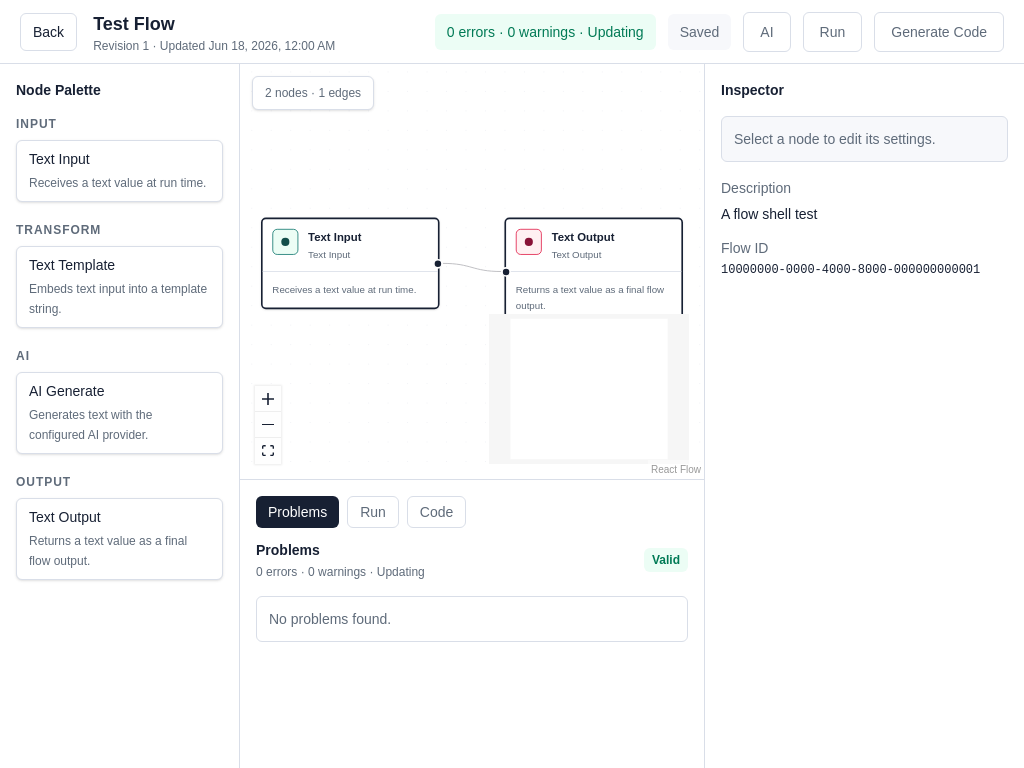
Test: EditorShell › opens the Code panel from the top bar for executable flows
Click the button "Generate Code": {"x": 939, "y": 32} [874,12,1004,52]
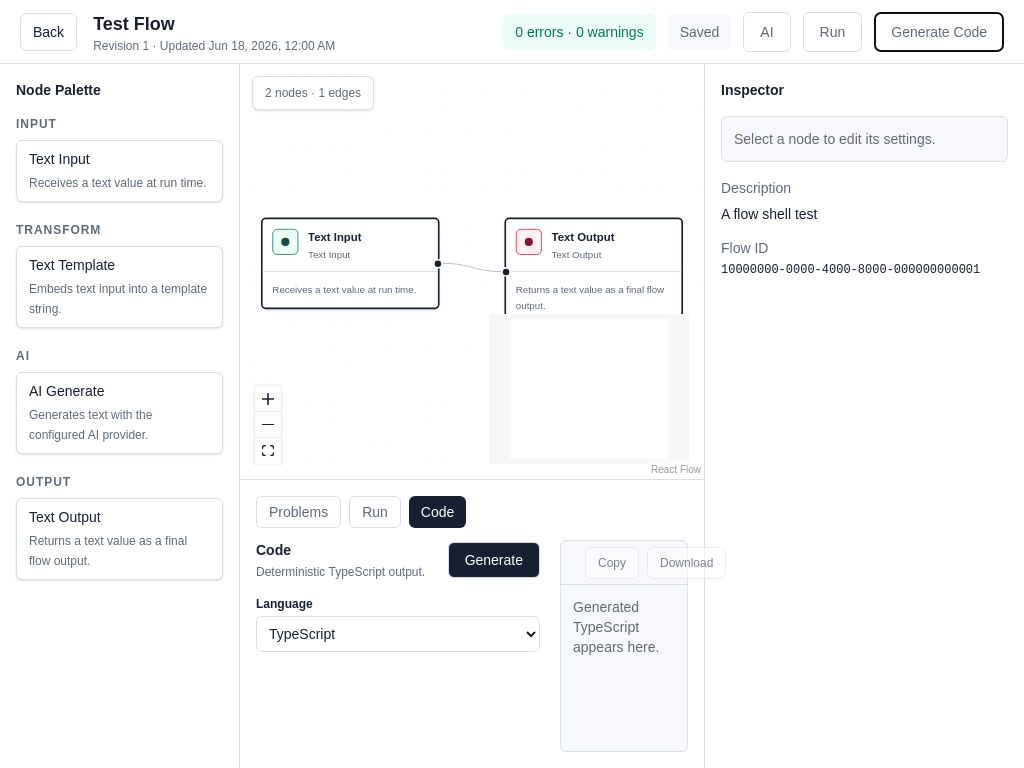
Result: the heading "Code" is shown at [256,542,291,558]
Result: the button "Generate" is shown at [448,542,540,578]
